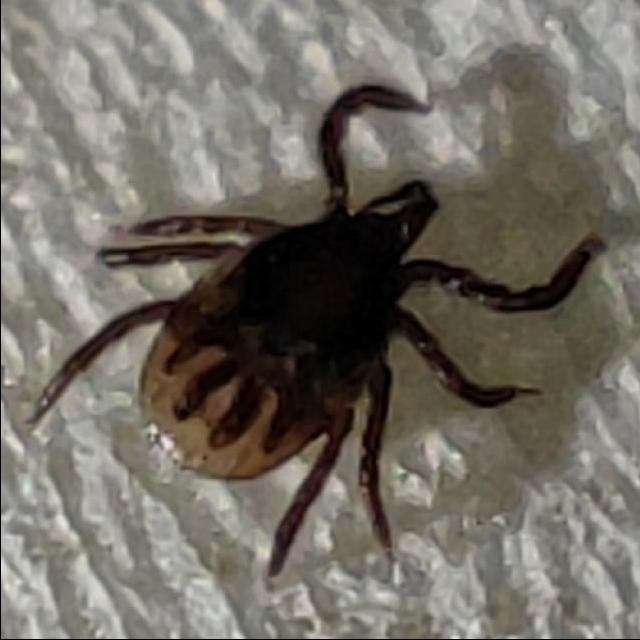Ixodes Ricinus-F: (29, 86, 605, 580)
